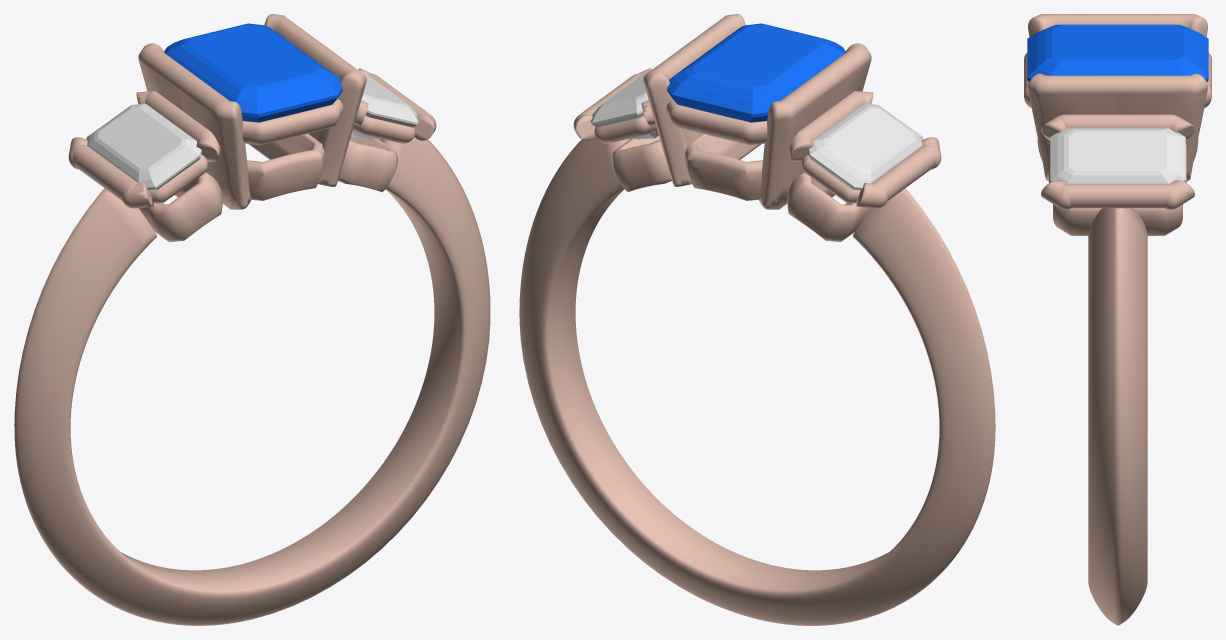
Rendered from bluesapphire-emerald-rosegold-halfmoonbezel-knifeedge-3stone.glb.
3 renders of one model, left to right at view 1: azimuth 30°, elevation 25°; view 2: azimuth 150°, elevation 25°; view 3: azimuth 270°, elevation 25°, orthographic.
Visible parts, largest first — view 1: metal.002, stone.002, side.002, side.003; view 2: metal.002, stone.002, side.002, side.003; view 3: metal.002, stone.002, side.003.
Part boxes in pixels (x1,y1,x2,y2): metal.002: (14,14,490,625); stone.002: (164,23,342,122); side.002: (86,103,201,190); side.003: (351,69,419,139); metal.002: (519,14,995,625); stone.002: (667,23,845,122); side.002: (808,103,923,190); side.003: (590,69,658,139); metal.002: (1024,14,1211,625); stone.002: (1027,24,1208,81); side.003: (1050,128,1185,183).
Size of the model in its own units: 20.1 by 22.74 by 6.94.
